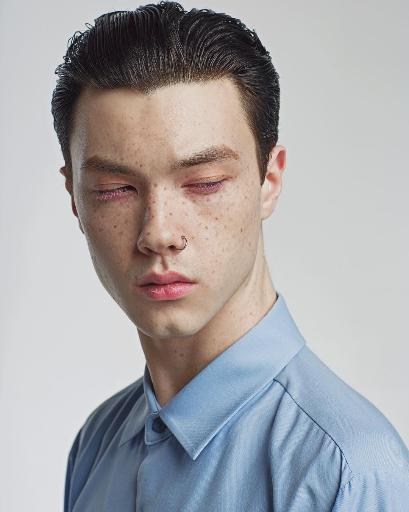left_eye: (182, 173, 232, 198)
left_lip_corner: (188, 276, 202, 292)
right_eye: (87, 182, 140, 202)
right_lip_corner: (131, 278, 146, 296)
